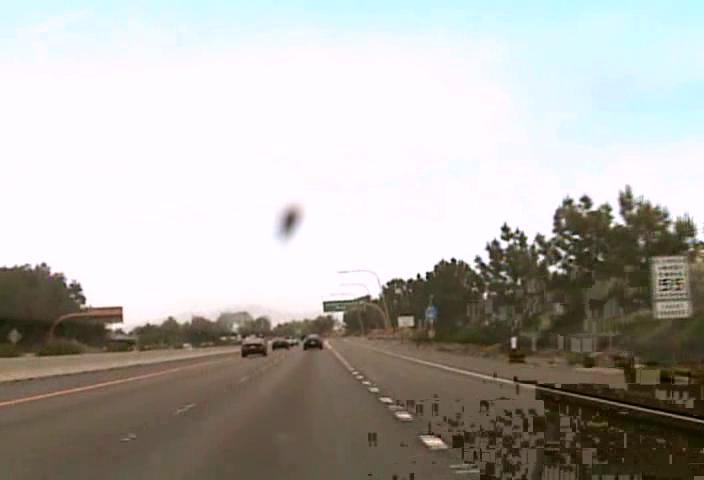truckSpeedLimit55: (649, 253, 693, 320)
